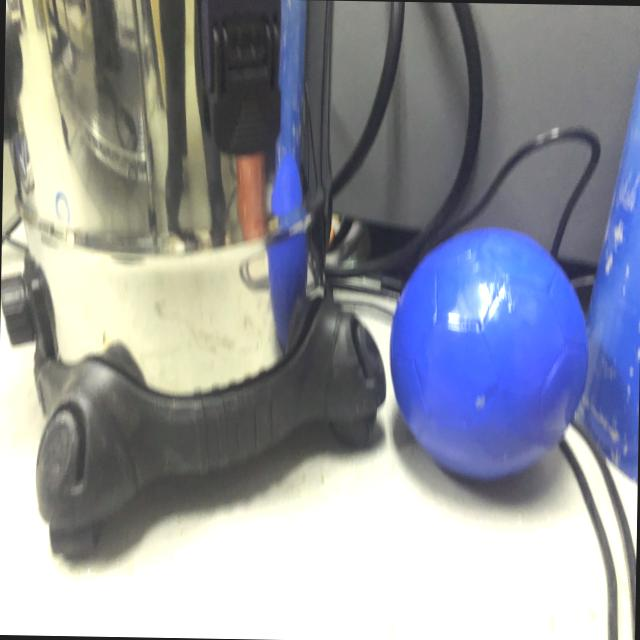blue_ball: (387, 228, 586, 480)
